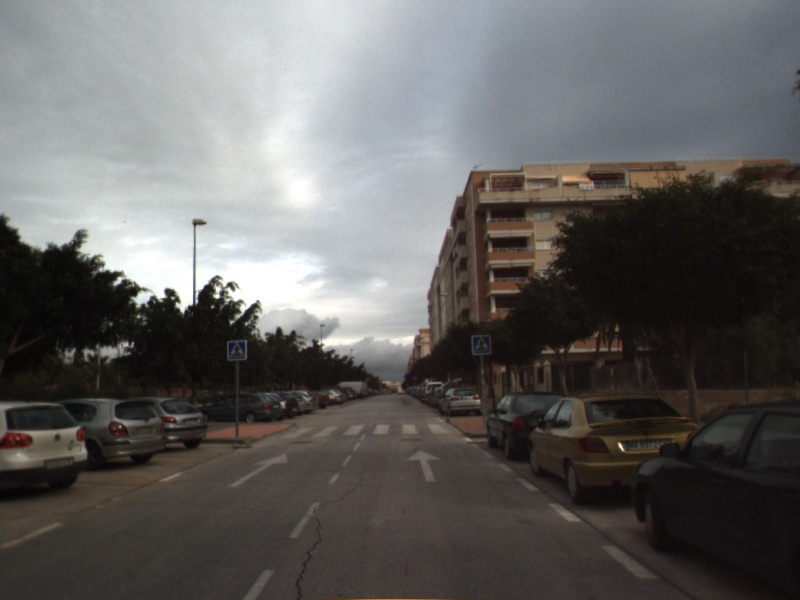STRAIGHT: (226, 451, 290, 489), (405, 448, 442, 483)
